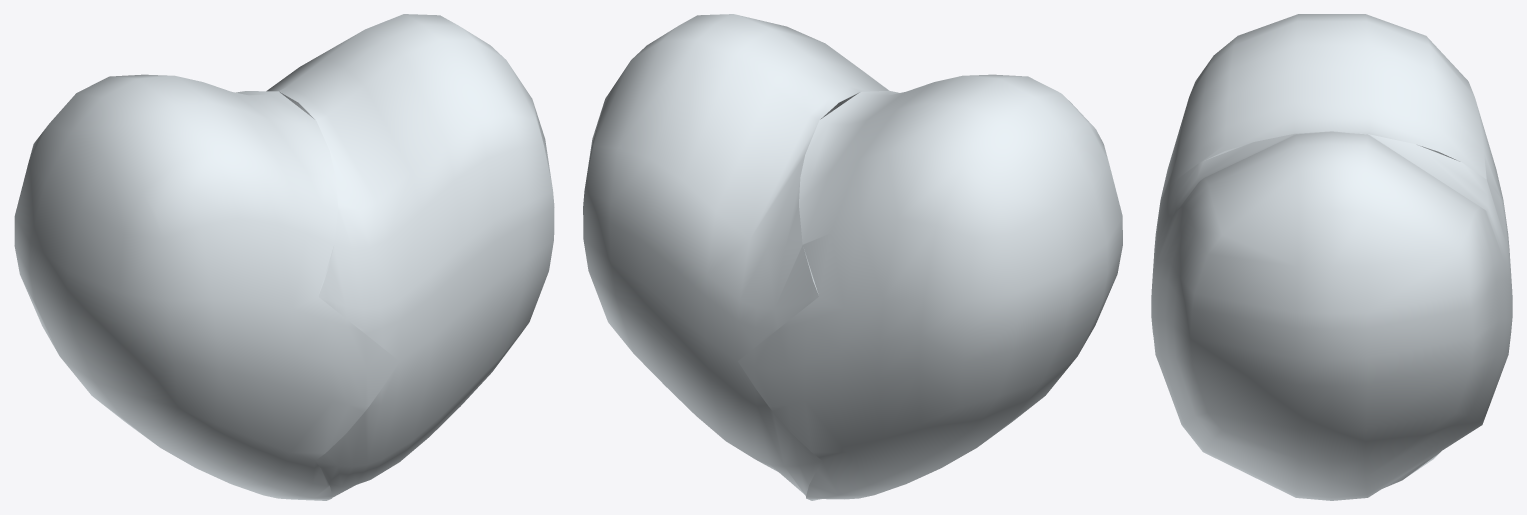
File: Heart2.fbx
The picture shows the model from 3 angles, left to right: view 1: azimuth 30°, elevation 25°; view 2: azimuth 150°, elevation 25°; view 3: azimuth 270°, elevation 25°; orthographic projection. The views are drawn at different scales.
Parts seen in each view (by area): view 1: Cube.033, Cube.032; view 2: Cube.033, Cube.032; view 3: Cube.032, Cube.033.
Part boxes in pixels (<box>): Cube.033: <box>14,74,399,500</box>; Cube.032: <box>266,14,554,497</box>; Cube.033: <box>738,74,1122,500</box>; Cube.032: <box>583,14,888,495</box>; Cube.032: <box>1151,131,1512,500</box>; Cube.033: <box>1151,14,1512,478</box>.
Bounding box in the file's own units: 31.17 × 26.51 × 21.11.
